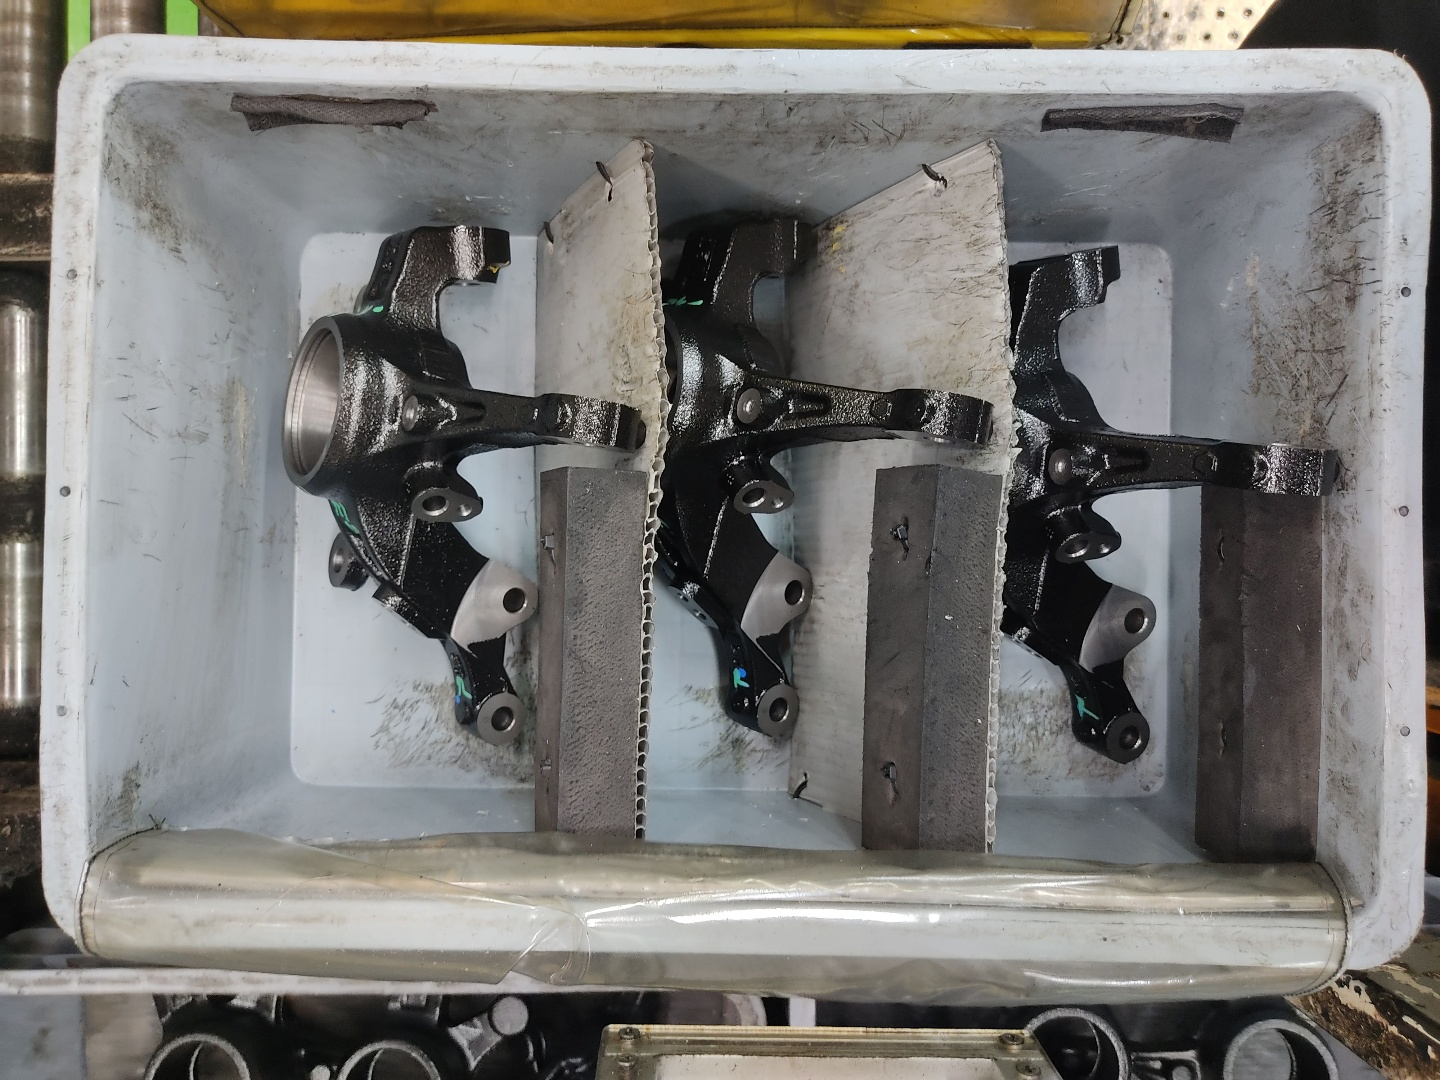abs-rh: (276, 213, 644, 752), (651, 199, 993, 753), (1006, 235, 1342, 781)
